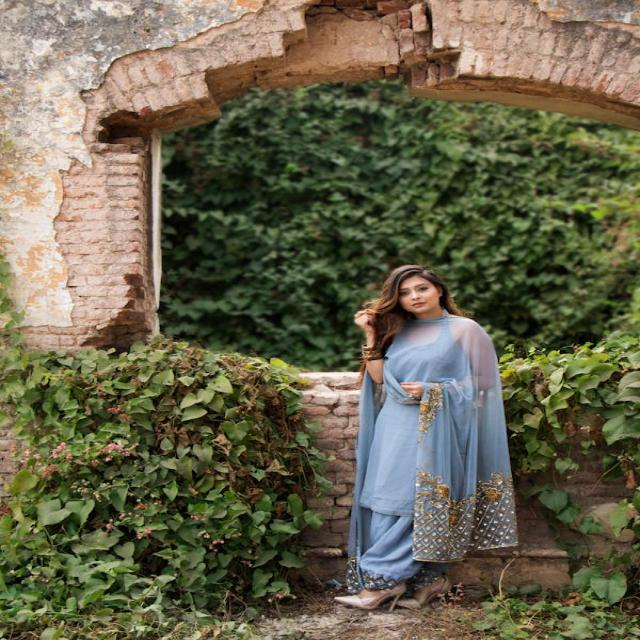Real human 2: (329, 253, 522, 616)
